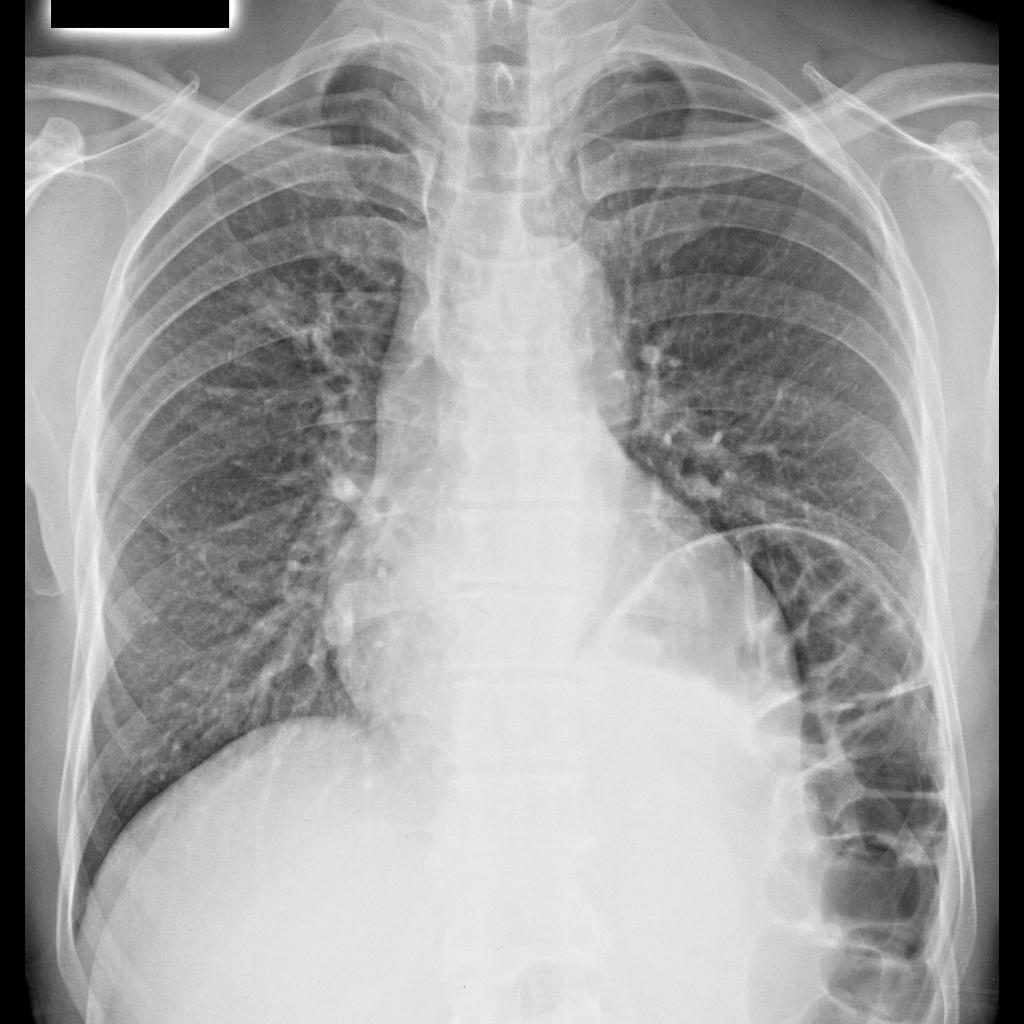Nodule: (250, 280, 299, 329)
